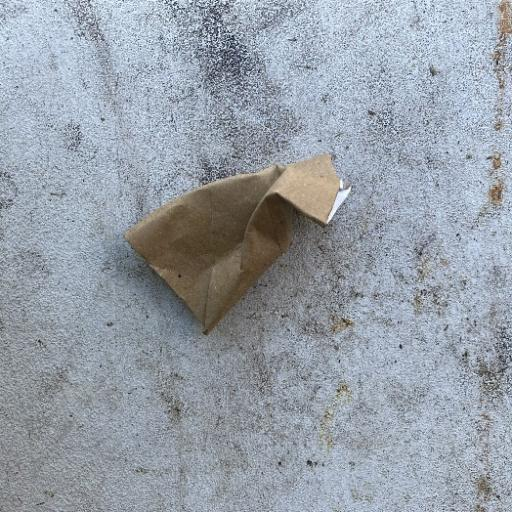Cardboard: (120, 151, 350, 336)
